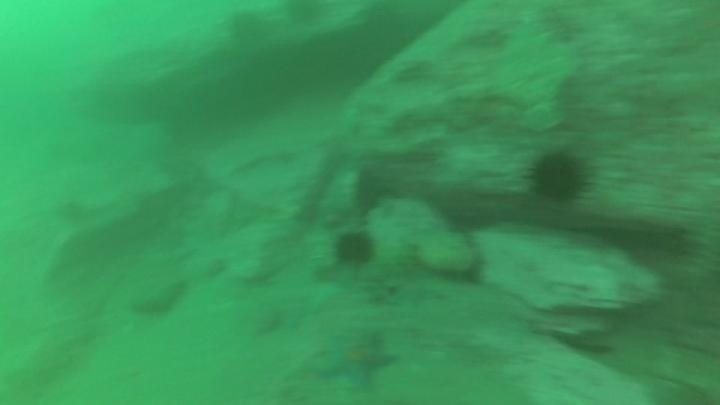echinus: (524, 146, 594, 208), (331, 227, 379, 270), (280, 1, 329, 29), (232, 10, 266, 47)
starfish: (311, 327, 401, 392)
